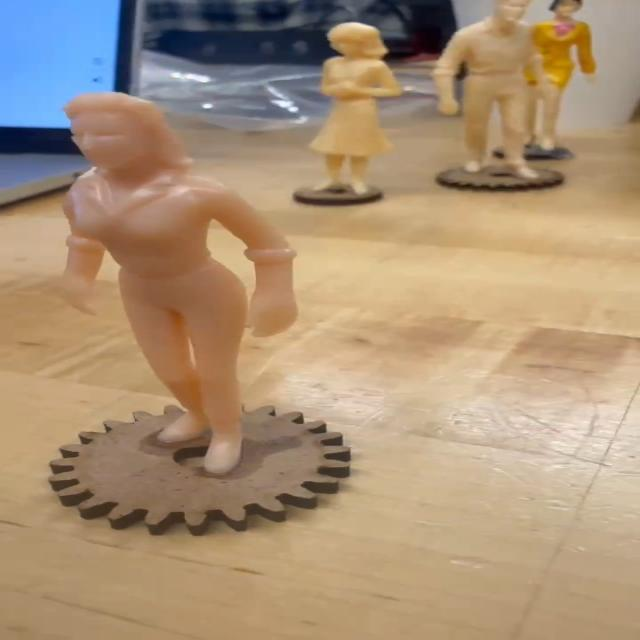Unauthorized: (16, 85, 310, 470)
